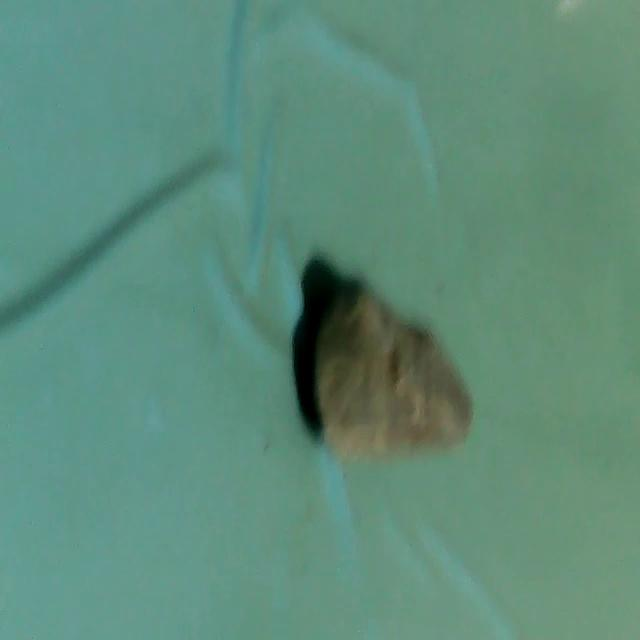rock: (299, 274, 485, 474)
